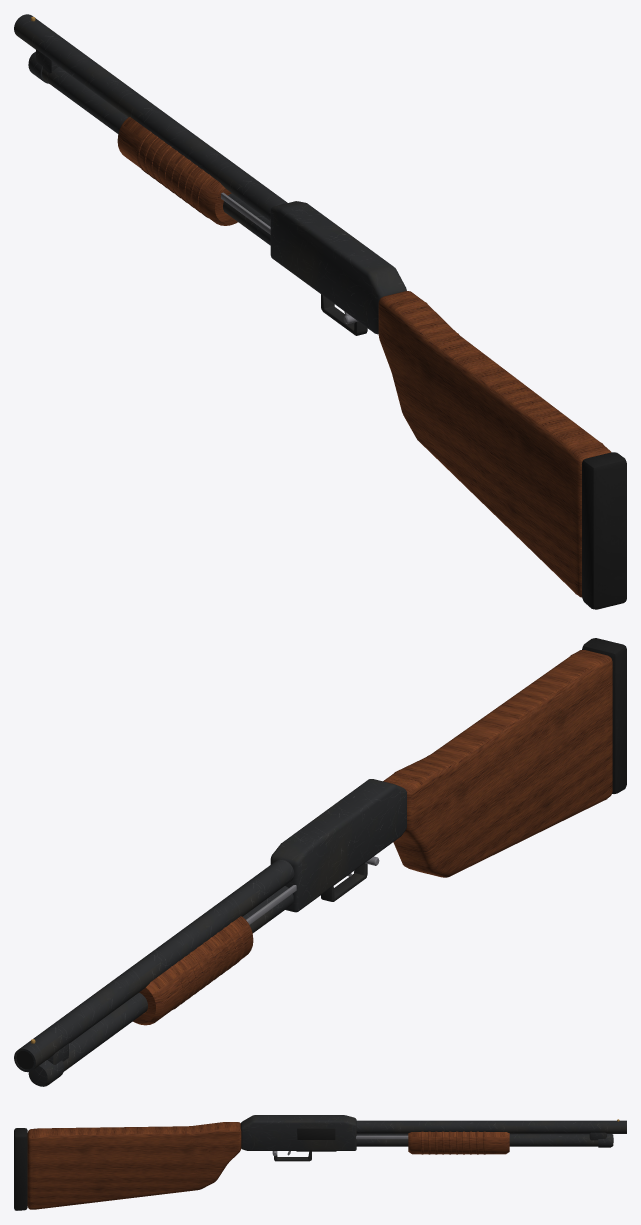
File: Shotgun.glb
3 views of the same model, one above another, from view 1: azimuth 30°, elevation 25°; view 2: azimuth 150°, elevation 25°; view 3: azimuth 270°, elevation 25° (orthographic). The views are drawn at different scales.
Visible parts, largest first — view 1: Shotgun_Body, Shotgun_Pump; view 2: Shotgun_Body, Shotgun_Pump; view 3: Shotgun_Body, Shotgun_Pump.
Boxes of the visible parts, bbox=[...] form: Shotgun_Body: bbox=[14, 14, 626, 609]; Shotgun_Pump: bbox=[117, 117, 270, 234]; Shotgun_Body: bbox=[14, 638, 626, 1086]; Shotgun_Pump: bbox=[133, 885, 296, 1025]; Shotgun_Body: bbox=[14, 1115, 626, 1210]; Shotgun_Pump: bbox=[356, 1131, 509, 1154].
Size of the model in its own units: 0.0492 by 0.1716 by 1.07.
Materials: 8 (7 with a texture image).
